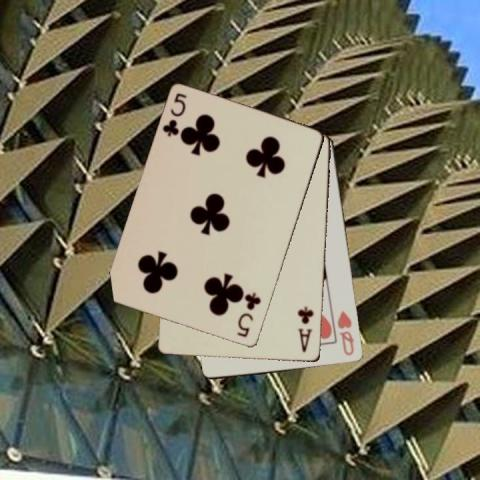5c: (233, 290, 263, 339), (159, 90, 189, 139)
Ac: (296, 303, 316, 354)
Qh: (335, 307, 356, 357)
